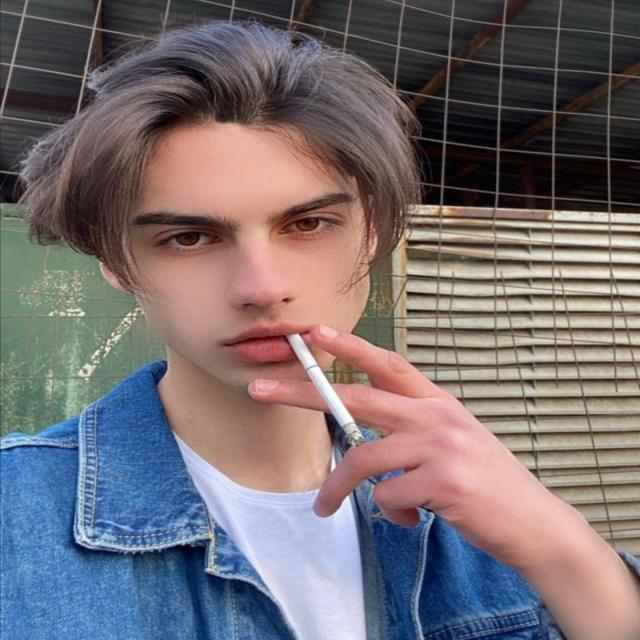rokok: (286, 332, 362, 448)
